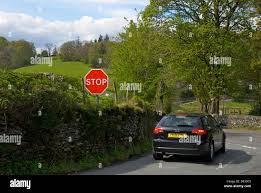stop sign: (84, 68, 108, 95)
